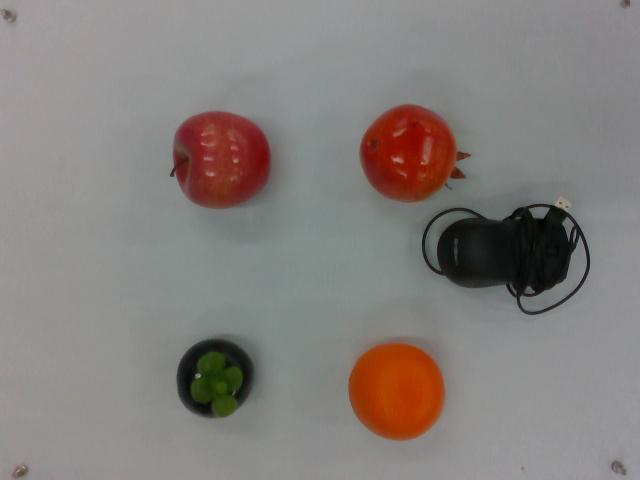apple: (162, 109, 275, 215)
mangosteen: (173, 333, 257, 425)
mouse: (424, 195, 597, 313)
orange: (346, 339, 449, 445)
pomegranate: (354, 99, 470, 206)
